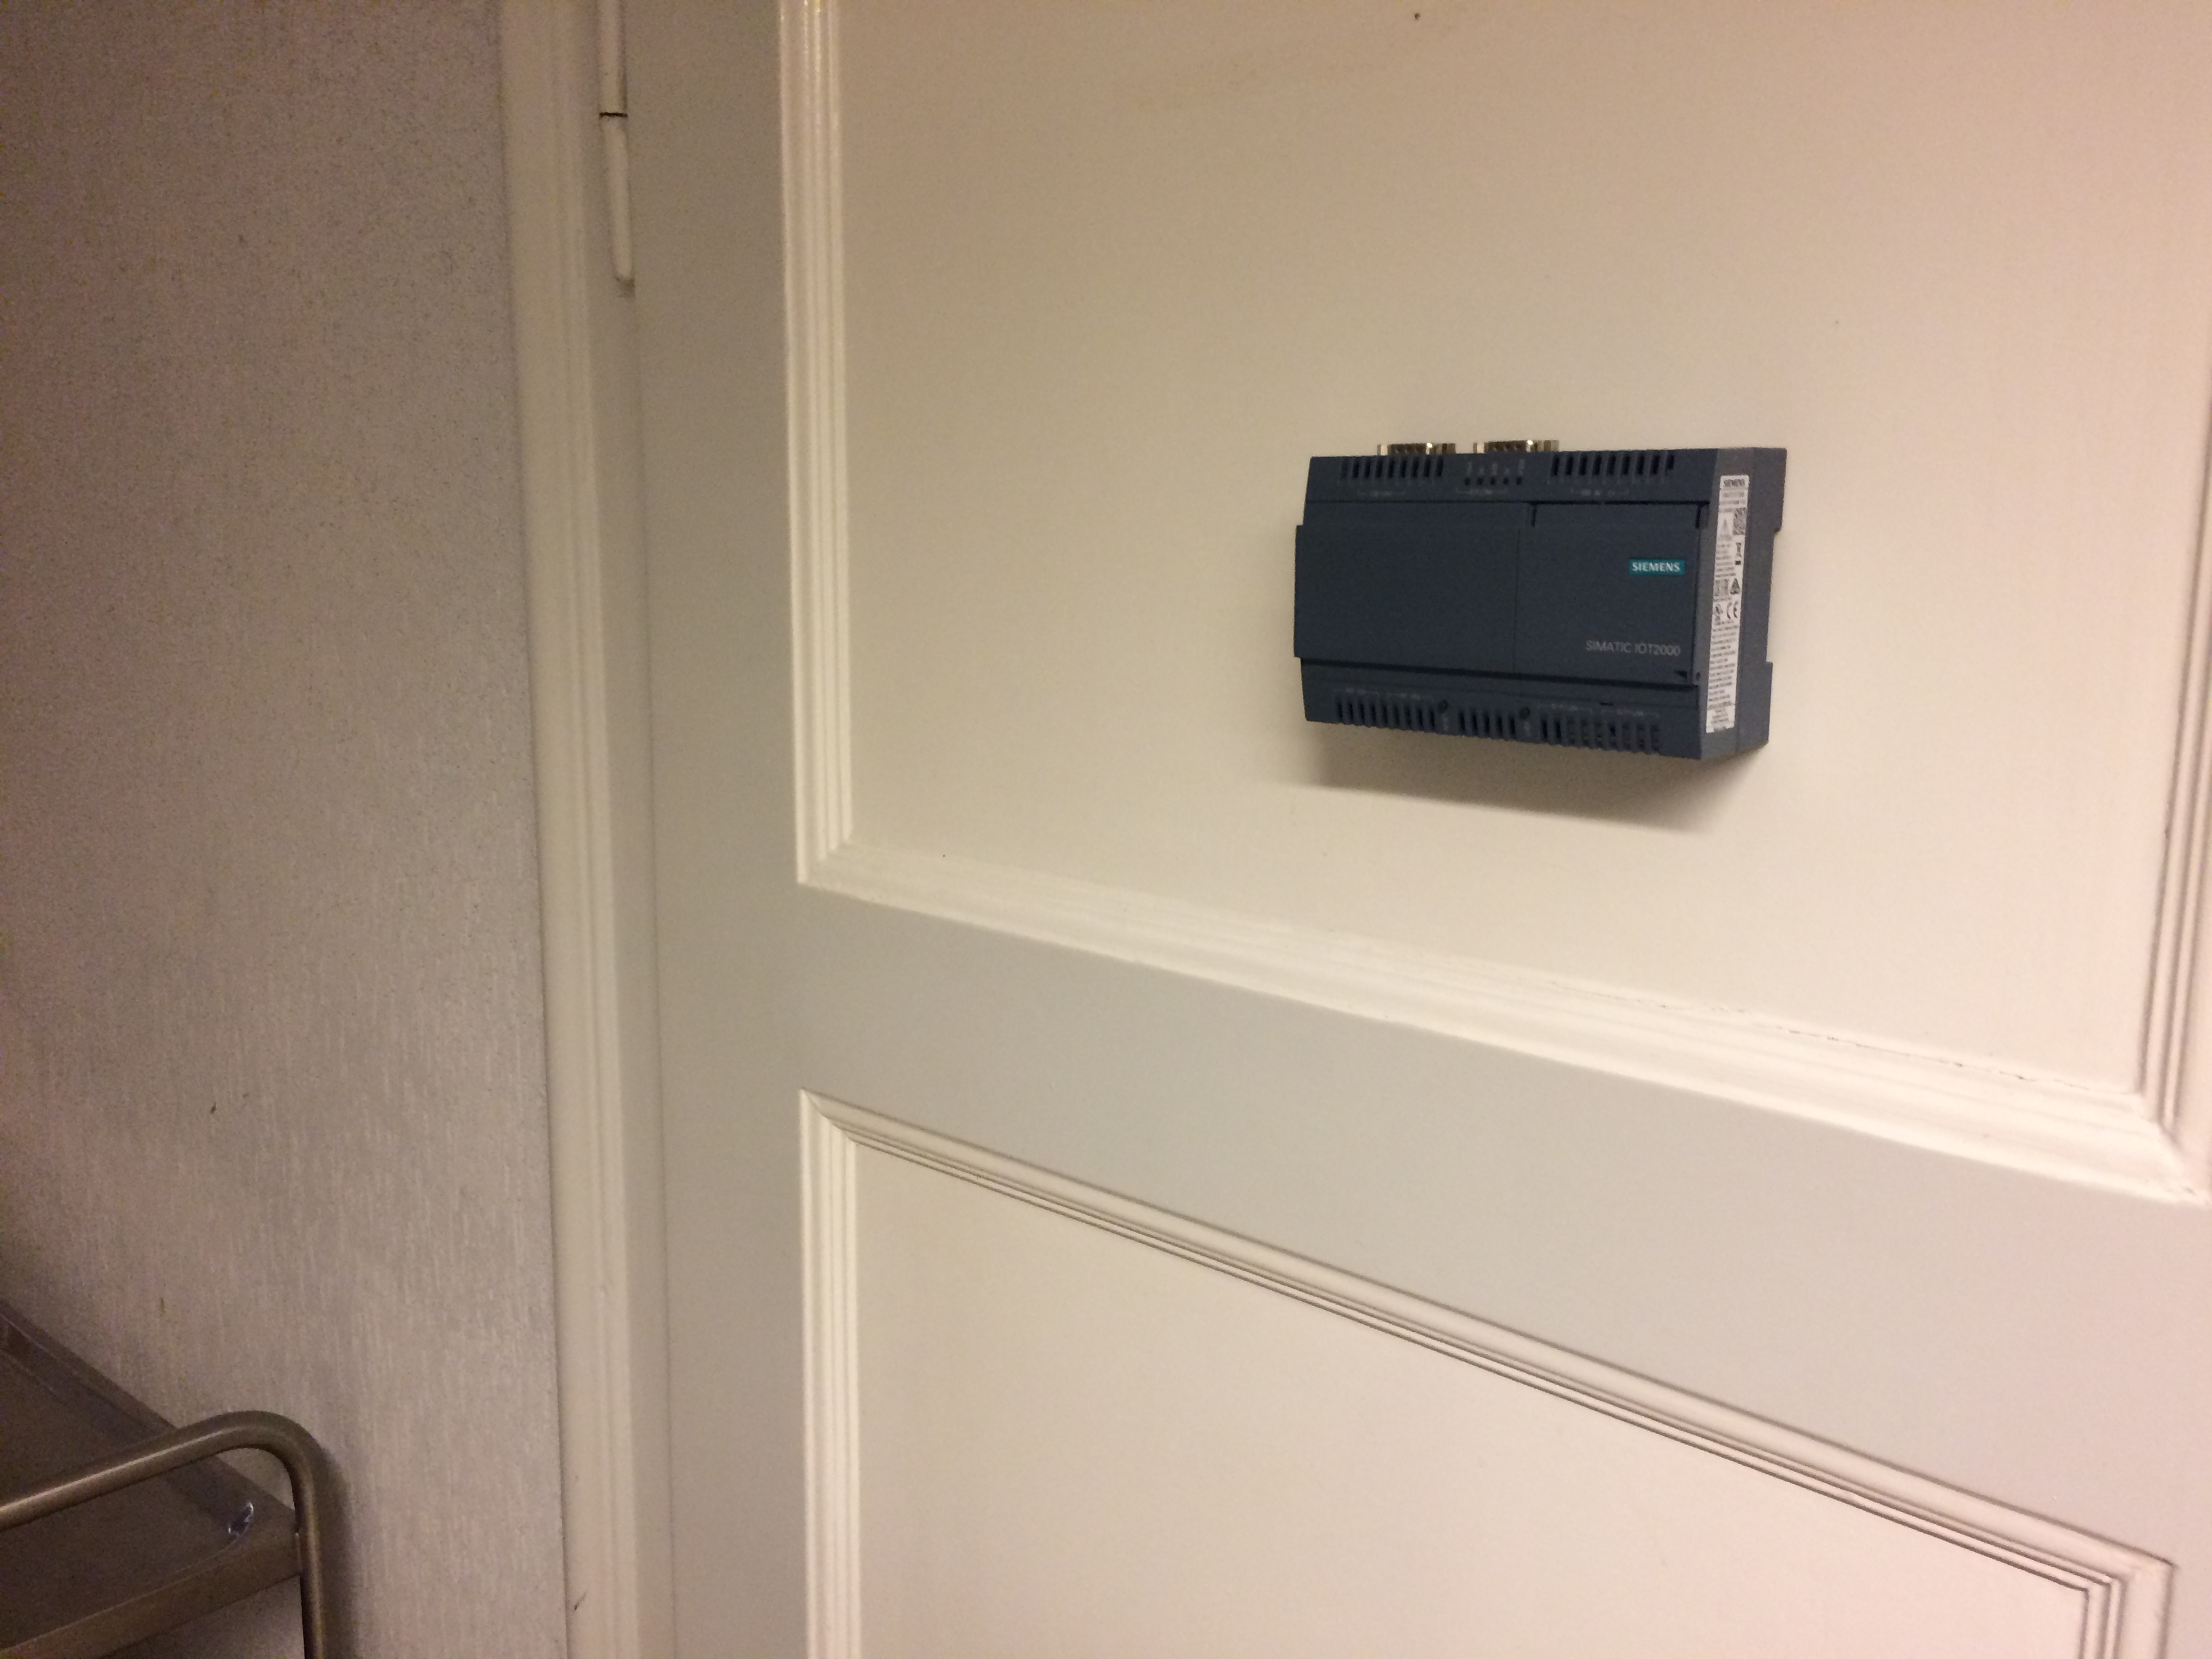iot2000: (1289, 436, 1791, 765)
